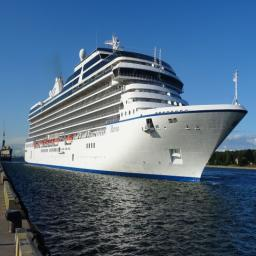cruises: (23, 30, 250, 188)
